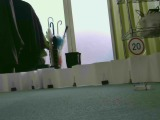speed_20: (126, 37, 147, 55)
